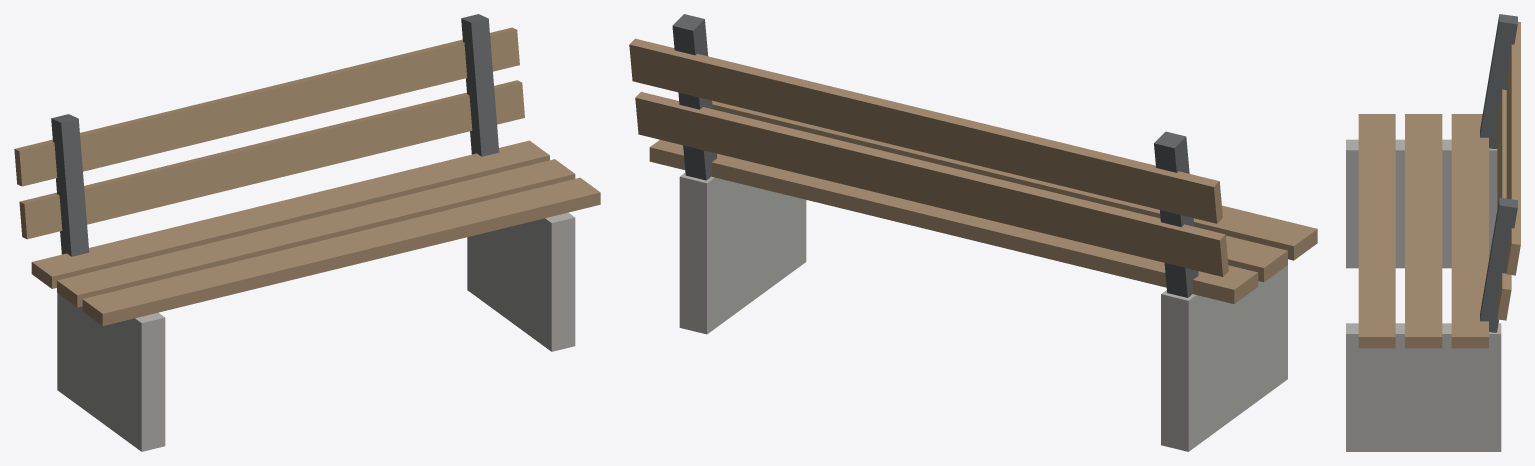
File: bench-park.glb
3 views of the same model, side by side, from view 1: azimuth 30°, elevation 25°; view 2: azimuth 150°, elevation 25°; view 3: azimuth 270°, elevation 25° (orthographic). The views are drawn at different scales.
Parts seen in each view (by area): view 1: bench-park; view 2: bench-park; view 3: bench-park.
Part boxes in pixels (x1,y1,x2,y2): bench-park: (14,14,600,451); bench-park: (629,14,1317,451); bench-park: (1346,14,1520,451).
Size of the model in its own units: 1.7 by 0.8719 by 0.5631.
